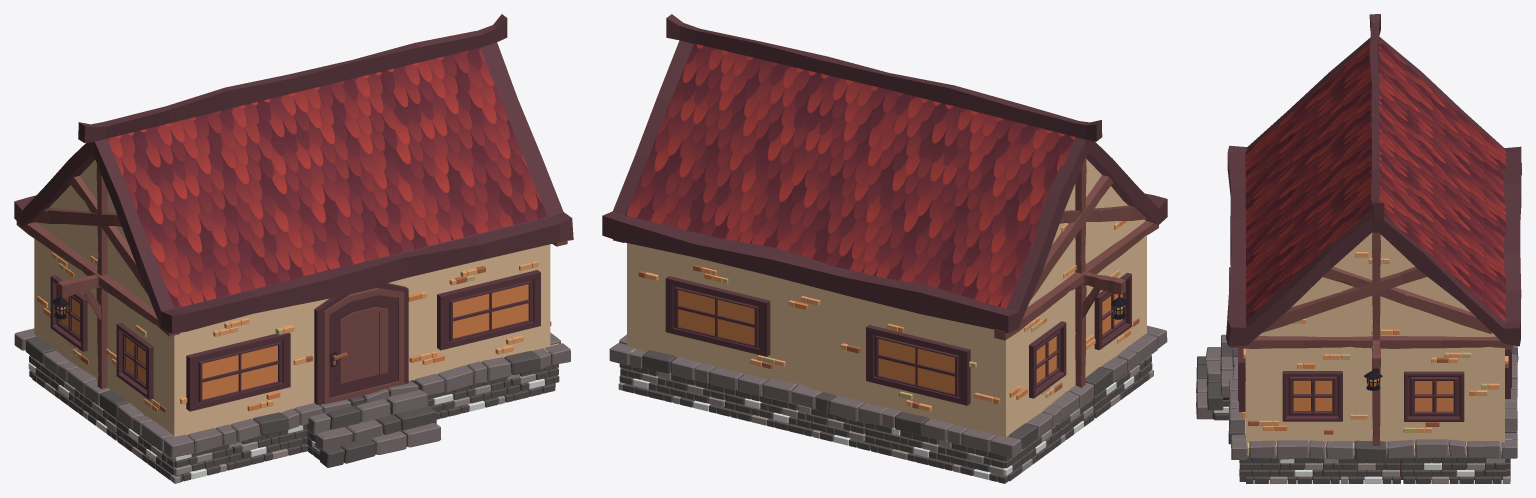
File: casa-pedra10.fbx
3 renders of one model, left to right at view 1: azimuth 30°, elevation 25°; view 2: azimuth 150°, elevation 25°; view 3: azimuth 270°, elevation 25°, orthographic. The views are drawn at different scales.
Visible parts, largest first — view 1: CasaPedra10_LOD0, PortaCasaPedra10; view 2: CasaPedra10_LOD0; view 3: CasaPedra10_LOD0.
Part boxes in pixels (left/top/right/bottom): CasaPedra10_LOD0: left=14, top=14, right=573, bottom=483; PortaCasaPedra10: left=323, top=288, right=404, bottom=404; CasaPedra10_LOD0: left=602, top=14, right=1167, bottom=483; CasaPedra10_LOD0: left=1196, top=14, right=1521, bottom=483.
Size of what is drawn, in the model's own units: 7.36 by 4.61 by 4.69.
